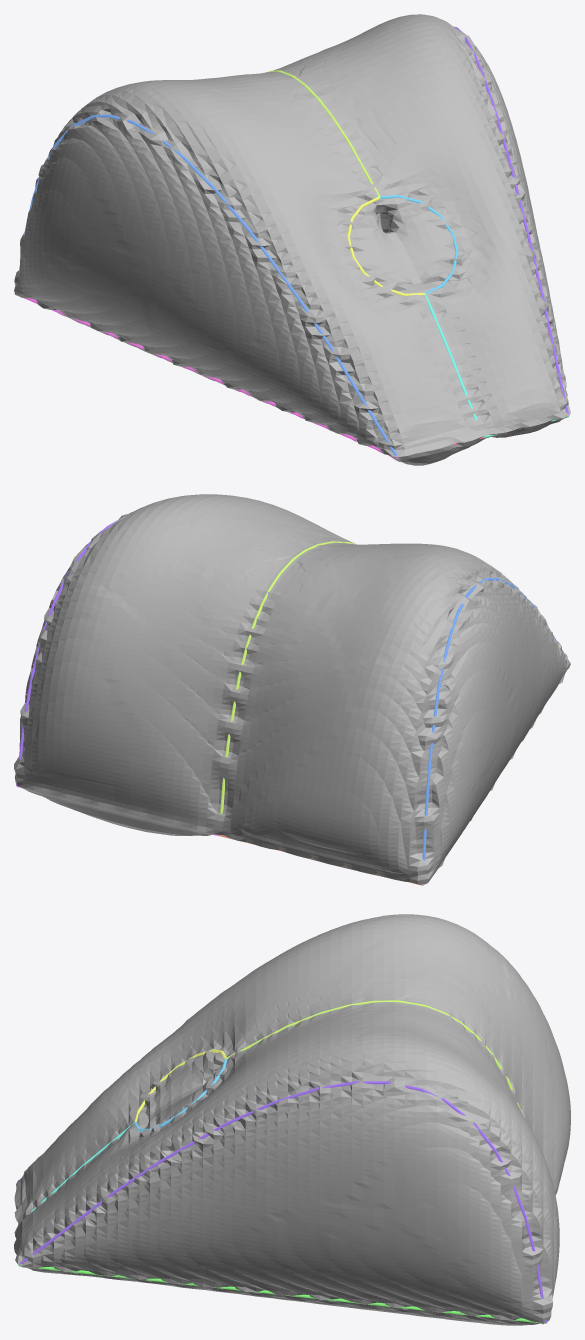
The model's file is onshape_simple_mouse.gltf.
3 renders of one model, top to bottom at view 1: azimuth 30°, elevation 25°; view 2: azimuth 150°, elevation 25°; view 3: azimuth 270°, elevation 25°, orthographic.
Size of the model in its own units: 0.666 by 0.4101 by 0.7465.
